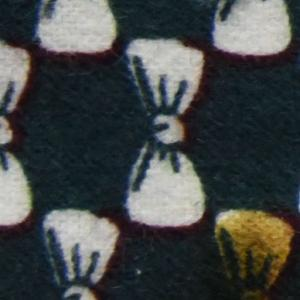Oil Stain: (207, 205, 300, 300)
